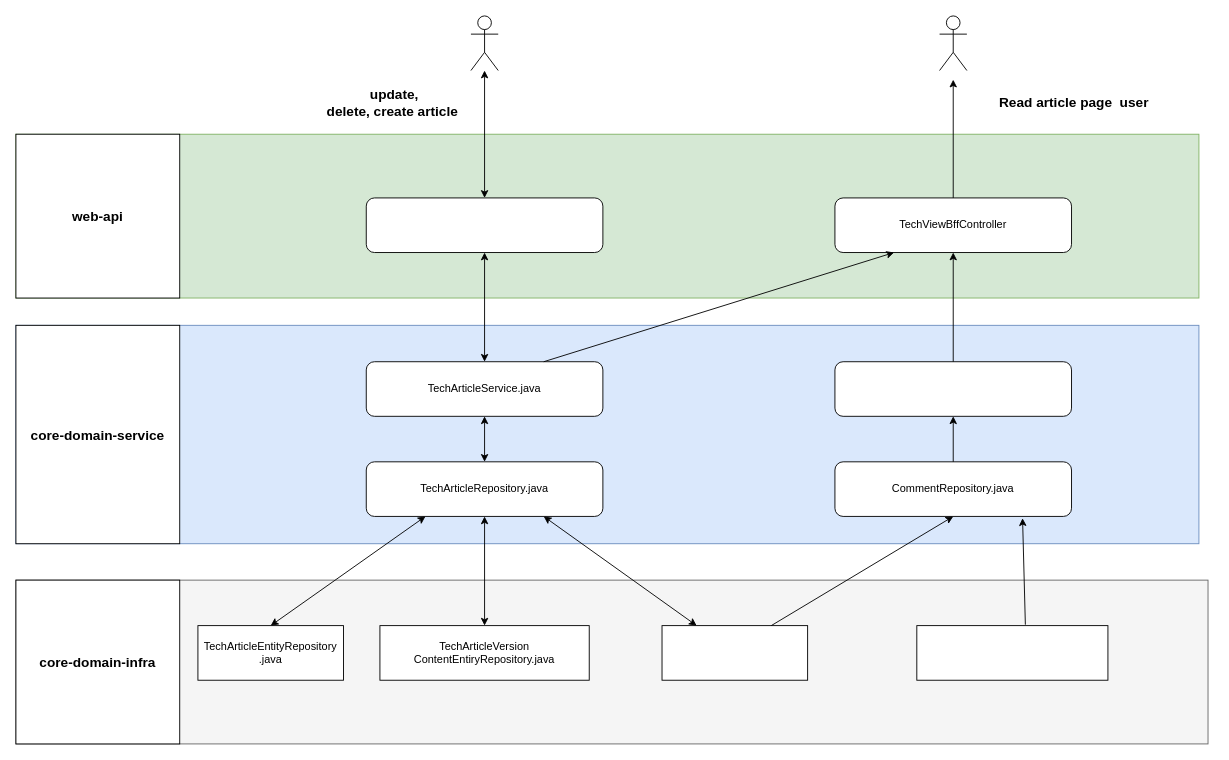
This 1229x760 diagram has some shape labels left out. The shapes that lost their labels are listed below. From the top down, each one's centre as x and y in pixels, then its label:
At (484,225): "TechArticleService".
At (953,388): "CommentService.java".
At (734,652): "UserEntityRepository.java".
At (1012,652): "CommentEntityRepository.java".
